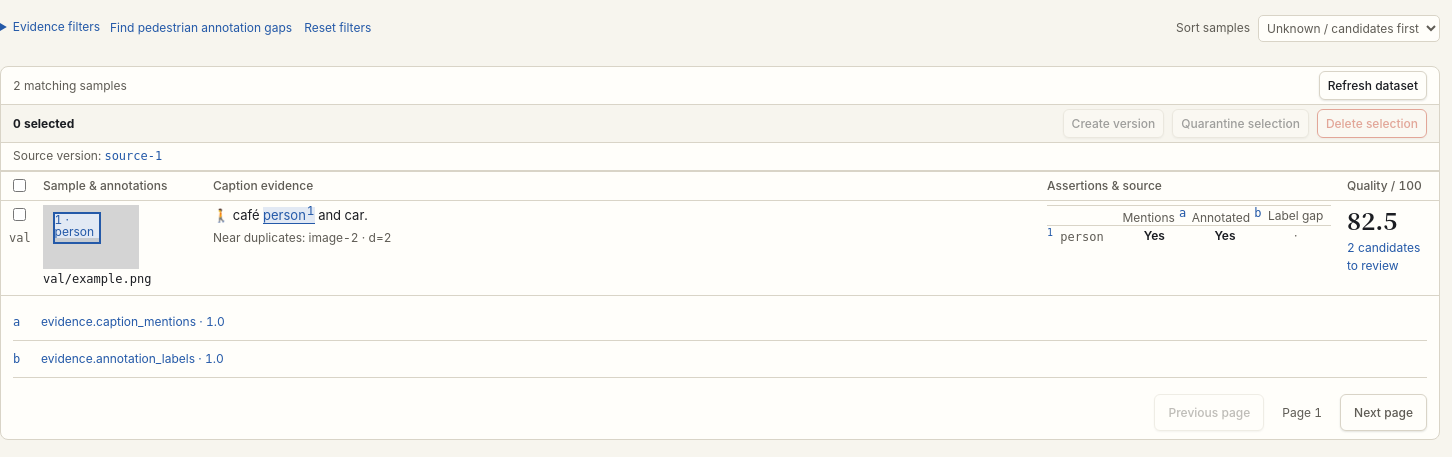
Test: turns cursor pages without retaining stale checked assets
Step 1. Click the checkbox named "Select val/example.png" → (20, 215), box [13, 208, 26, 221]
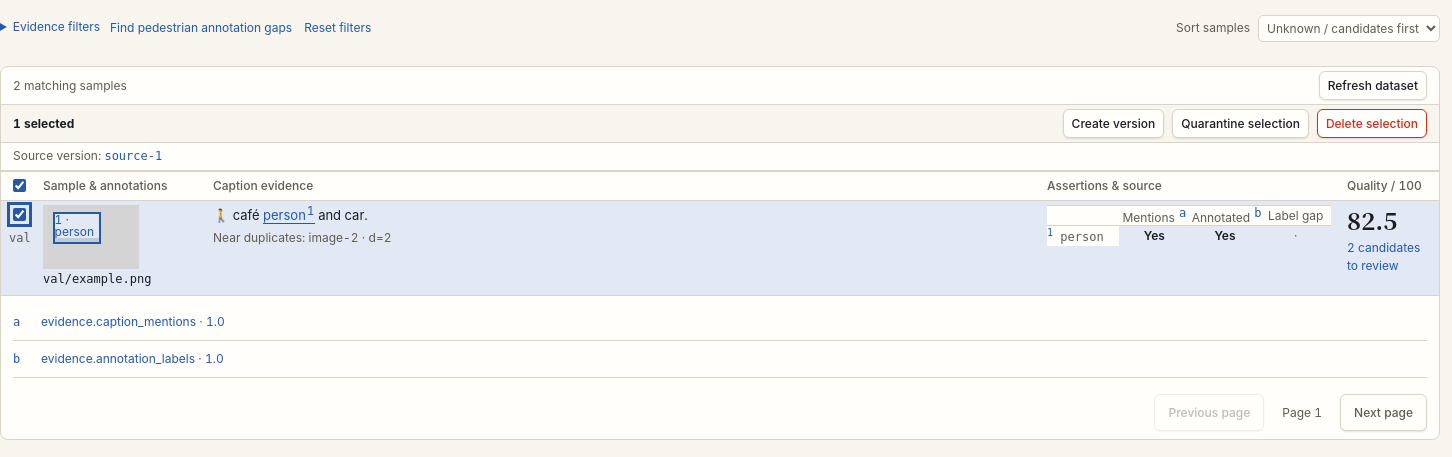
Step 2. Click the button "Next page" → (1384, 413), box [1340, 394, 1427, 431]
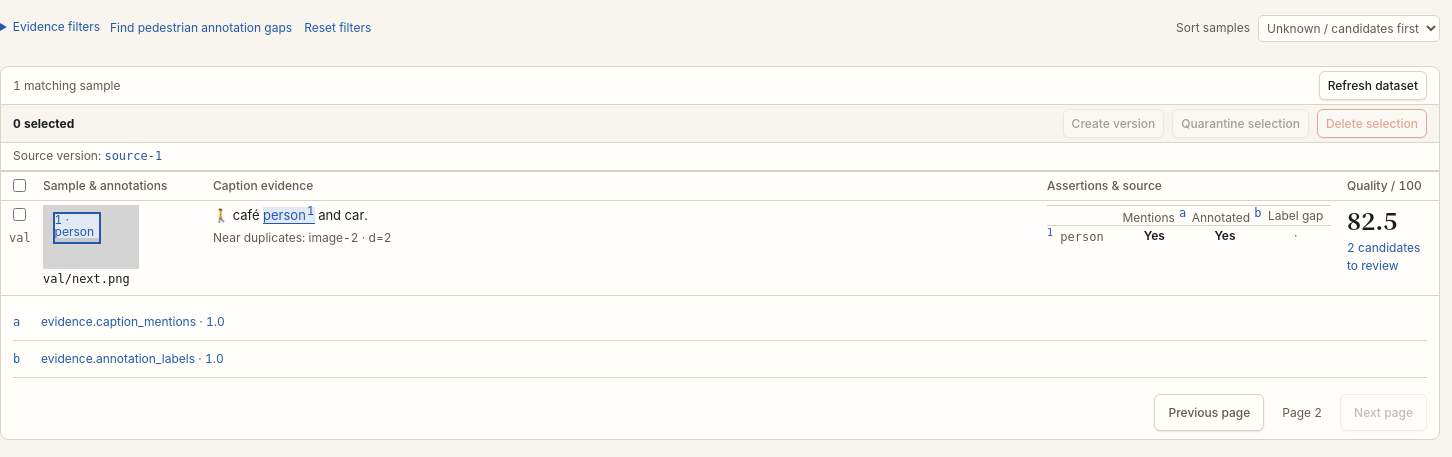
Expected: the text "Page 2" is shown, [1282, 403, 1322, 422]
Expected: the button "Create version" is disabled, [1063, 109, 1164, 138]
